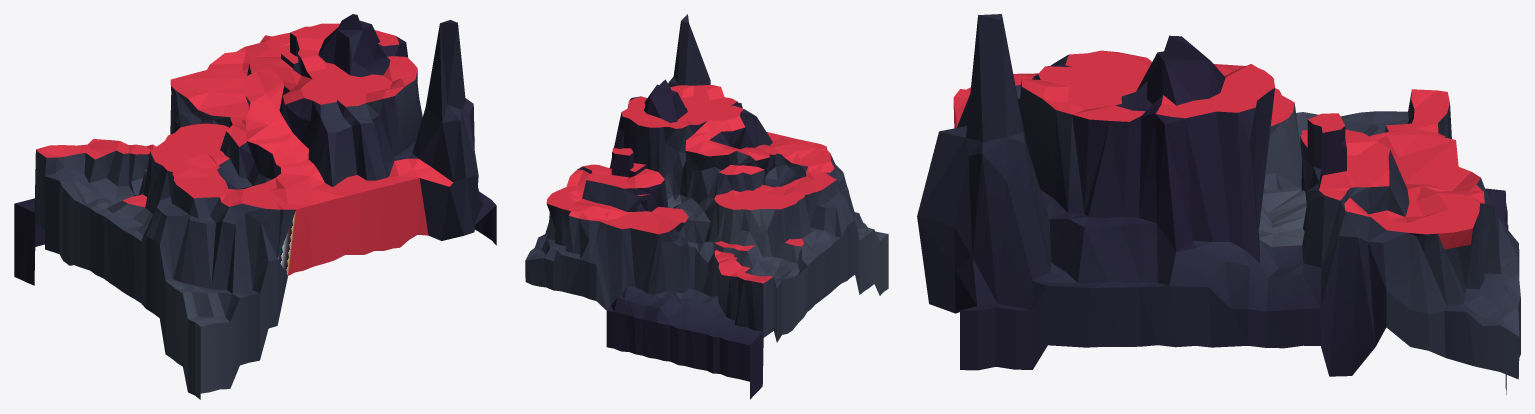
File: Town_Cliff.fbx
3 renders of one model, left to right at view 1: azimuth 30°, elevation 25°; view 2: azimuth 150°, elevation 25°; view 3: azimuth 270°, elevation 25°, orthographic. The views are drawn at different scales.
Visible parts, largest first — view 1: Mountains; view 2: Mountains; view 3: Mountains.
Boxes of the visible parts, left/top/right/bottom form: Mountains: left=14, top=14, right=496, bottom=399; Mountains: left=525, top=14, right=888, bottom=399; Mountains: left=917, top=14, right=1520, bottom=394.
Size of the model in its own units: 9320 by 9467 by 10997.
